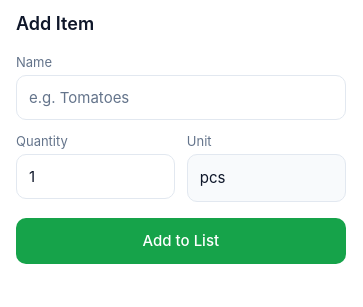
Test: AddItemSheet › shows error when name is empty on submit
This screenshot has width=363, height=307.
Click the text "Add to List".
click(181, 241)  # box [143,230,219,252]
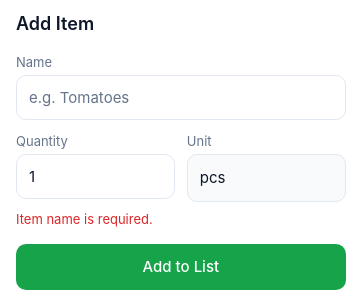
Now the text "Item name is required." is shown, box [16,211,153,227]
